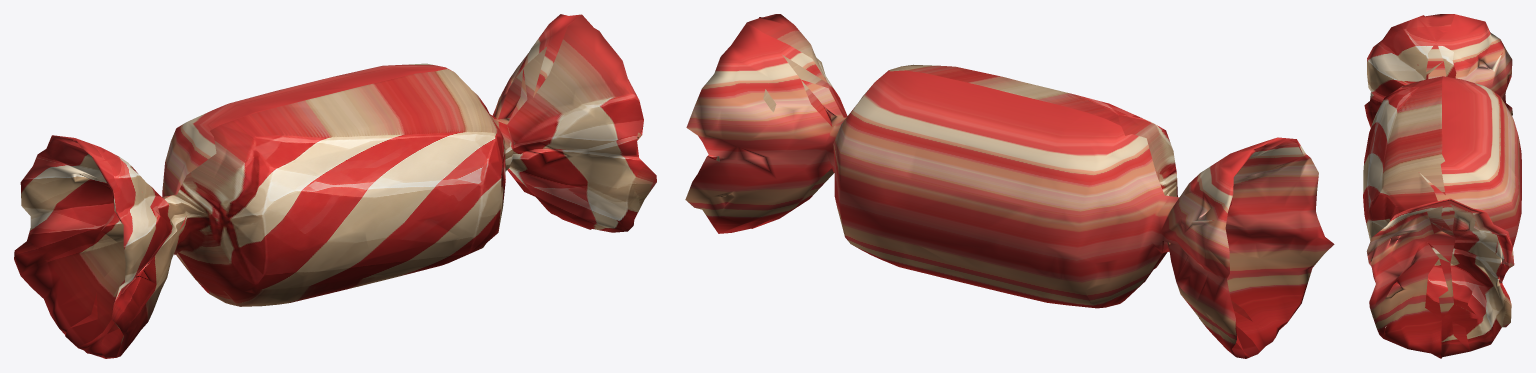
The model's file is asset_candy.glb.
3 renders of one model, left to right at view 1: azimuth 30°, elevation 25°; view 2: azimuth 150°, elevation 25°; view 3: azimuth 270°, elevation 25°, orthographic. The views are drawn at different scales.
Visible parts, largest first — view 1: geometry_0; view 2: geometry_0; view 3: geometry_0.
Boxes of the visible parts, box(x1,y1,x2,y2) form: geometry_0: box(14, 14, 656, 358); geometry_0: box(685, 14, 1334, 358); geometry_0: box(1363, 14, 1521, 358).
Size of the model in its own units: 0.6815 by 0.25 by 0.2255.
Materials: 1 (1 with a texture image).
